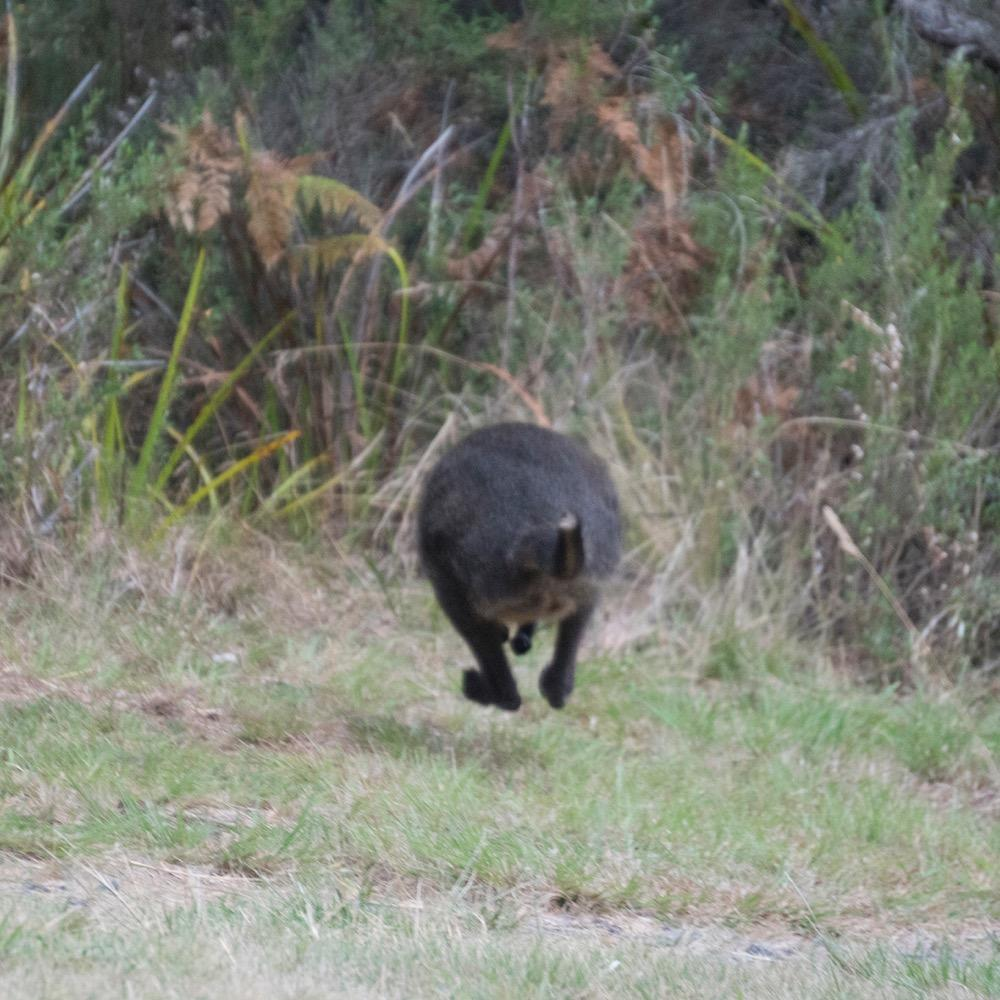Swamp wallaby: (391, 417, 627, 757)
